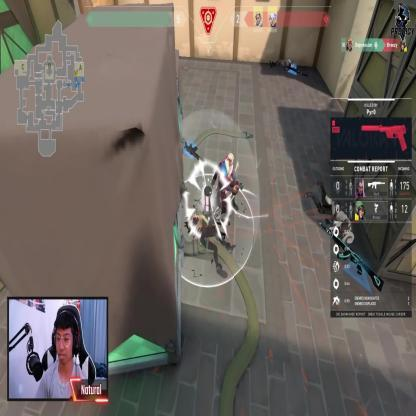enemy: (214, 152, 238, 216)
enemy_head: (227, 152, 234, 166)
